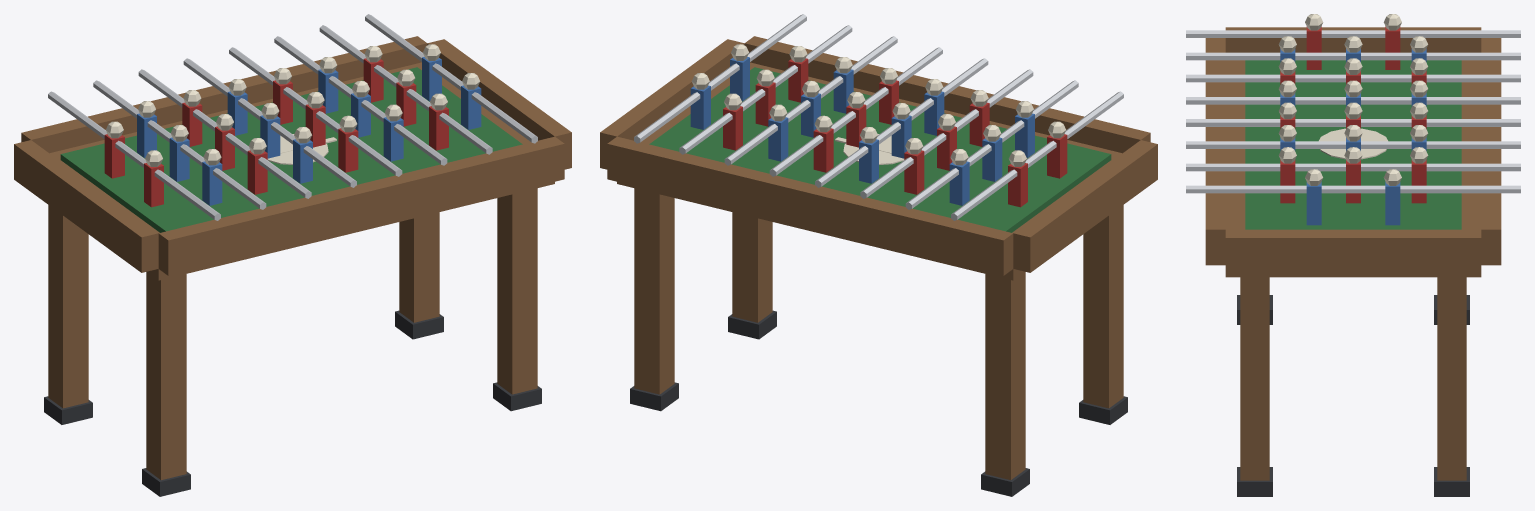
Rendered from foosball.glb.
The picture shows the model from 3 angles, left to right: view 1: azimuth 30°, elevation 25°; view 2: azimuth 150°, elevation 25°; view 3: azimuth 270°, elevation 25°; orthographic projection.
Visible parts, largest first — view 1: foosball; view 2: foosball; view 3: foosball.
Part boxes in pixels (x1,y1,x2,y2): foosball: (14, 14, 571, 496); foosball: (600, 14, 1157, 496); foosball: (1186, 14, 1520, 496).
Size of the model in its own units: 1.52 by 1.05 by 1.02.
